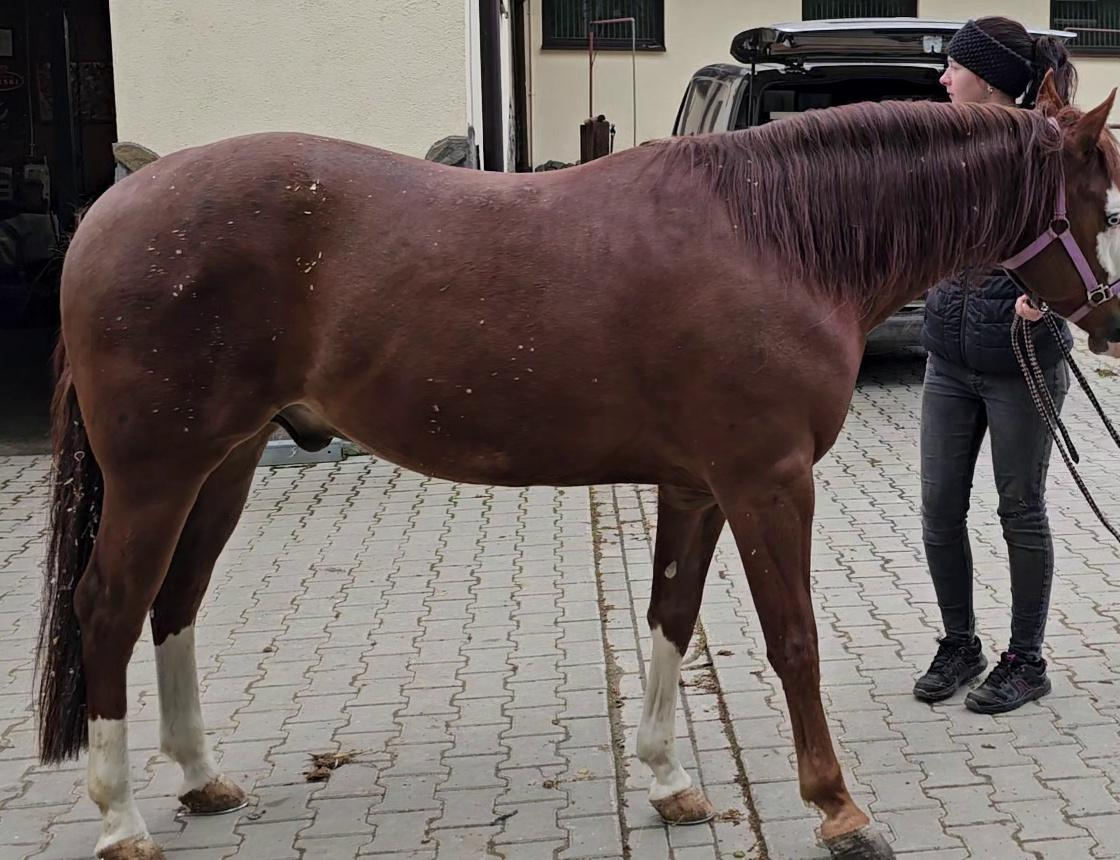horse: (31, 65, 1119, 858)
